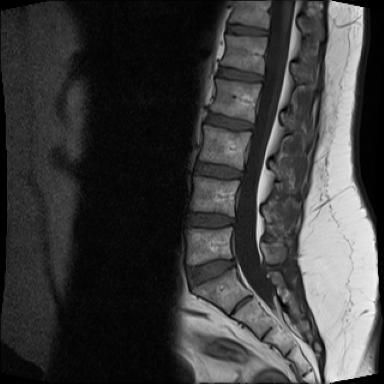Normal IVD: (182, 250, 237, 293), (200, 106, 258, 135), (188, 157, 245, 182), (213, 61, 267, 86), (181, 208, 237, 229), (220, 20, 271, 38)
